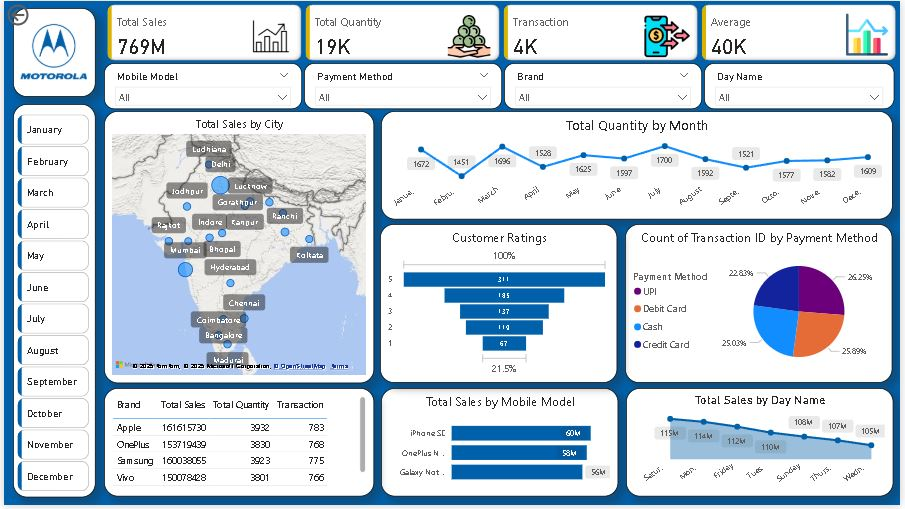

Layout of this report page (visuals, bound fields, positions):
{"tool":"powerbi","page":{"name":"Page 1","canvas":[1280,720],"ordinal":0},"visuals":[{"type":"shape","box":[12.4,9.6,118.4,126.6],"z":0},{"type":"image","box":[17.9,20.6,106,104.6],"z":1000},{"type":"shape","box":[12.7,146.4,118.3,561.8],"z":2000},{"type":"advancedSlicerVisual","fields":{"Values":["Sales Data.Date.Variation.Date Hierarchy.Month"]},"box":[14.1,157.7,112.7,550.6],"z":3000},{"type":"cardVisual","fields":{"Data":["Sales Data.Total Sales","Sales Data.Total Quantity","Sales Data.Transaction","Sales Data.Average"]},"box":[142.2,0,1137.8,90.1],"z":4000},{"type":"map","fields":{"Category":["Sales Data.City"],"Size":["Sales Data.Total Sales"]},"box":[142.2,157.7,385.8,388.6],"z":5000},{"type":"lineChart","fields":{"Y":["Sales Data.Total Quantity"],"Category":["Sales Data.Date.Variation.Date Hierarchy.Month","Sales Data.Date.Variation.Date Hierarchy.Day"]},"box":[537.9,157.7,730.8,154.9],"z":6000},{"type":"clusteredBarChart","fields":{"Category":["Sales Data.Mobile Model"],"Y":["Sales Data.Total Sales"]},"box":[537.9,553.4,339.4,154.9],"z":7000},{"type":"pieChart","fields":{"Category":["Sales Data.Payment Method"],"Y":["CountNonNull(Sales Data.Transaction ID)"]},"box":[886.9,319.3,382.3,227.3],"z":8000},{"type":"funnel","title":"Customer Ratings","fields":{"Category":["Sales Data.Customer Ratings"],"Y":["CountNonNull(Sales Data.Customer Ratings)"]},"box":[537.4,319.3,339,227.3],"z":9000},{"type":"areaChart","fields":{"Y":["Sales Data.Total Sales"],"Category":["Sales Data.Day Name"]},"box":[888.5,553.4,381.6,154.9],"z":10000},{"type":"tableEx","fields":{"Values":["Sales Data.Brand","Sales Data.Total Sales","Sales Data.Total Quantity","Sales Data.Transaction"]},"box":[142.2,553.4,385.8,154.9],"z":11000},{"type":"actionButton","box":[0,0,100,40],"z":12000},{"type":"slicer","fields":{"Values":["Sales Data.Mobile Model"]},"box":[142.2,88.7,283,66.2],"z":13000},{"type":"slicer","fields":{"Values":["Sales Data.Payment Method"]},"box":[428.1,88.7,283,66.2],"z":14000},{"type":"slicer","fields":{"Values":["Sales Data.Brand"]},"box":[713.9,88.7,283,66.2],"z":15000},{"type":"slicer","fields":{"Values":["Sales Data.Day Name"]},"box":[999.8,88.7,271.8,66.2],"z":16000}]}

Visuals, with their boxes in screenshot pixels (x1, y1, x2, y2), scaled from the page's 1280x720 canvas onto the 905x509 screenshot:
shape: (left=9, top=7, right=92, bottom=96)
image: (left=13, top=15, right=88, bottom=89)
shape: (left=9, top=103, right=93, bottom=501)
advancedSlicerVisual - Sales Data.Date.Variation.Date Hierarchy.Month: (left=10, top=111, right=90, bottom=501)
cardVisual - Sales Data.Total Sales x Sales Data.Total Quantity: (left=101, top=0, right=904, bottom=64)
map - Sales Data.City x Sales Data.Total Sales: (left=101, top=111, right=373, bottom=386)
lineChart - Sales Data.Total Quantity x Sales Data.Date.Variation.Date Hierarchy.Month: (left=380, top=111, right=897, bottom=221)
clusteredBarChart - Sales Data.Mobile Model x Sales Data.Total Sales: (left=380, top=391, right=620, bottom=501)
pieChart - Sales Data.Payment Method x CountNonNull(Sales Data.Transaction ID): (left=627, top=226, right=897, bottom=386)
"Customer Ratings" funnel: (left=380, top=226, right=620, bottom=386)
areaChart - Sales Data.Total Sales x Sales Data.Day Name: (left=628, top=391, right=898, bottom=501)
tableEx - Sales Data.Brand x Sales Data.Total Sales: (left=101, top=391, right=373, bottom=501)
actionButton: (left=0, top=0, right=71, bottom=28)
slicer - Sales Data.Mobile Model: (left=101, top=63, right=301, bottom=110)
slicer - Sales Data.Payment Method: (left=303, top=63, right=503, bottom=110)
slicer - Sales Data.Brand: (left=505, top=63, right=705, bottom=110)
slicer - Sales Data.Day Name: (left=707, top=63, right=899, bottom=110)
